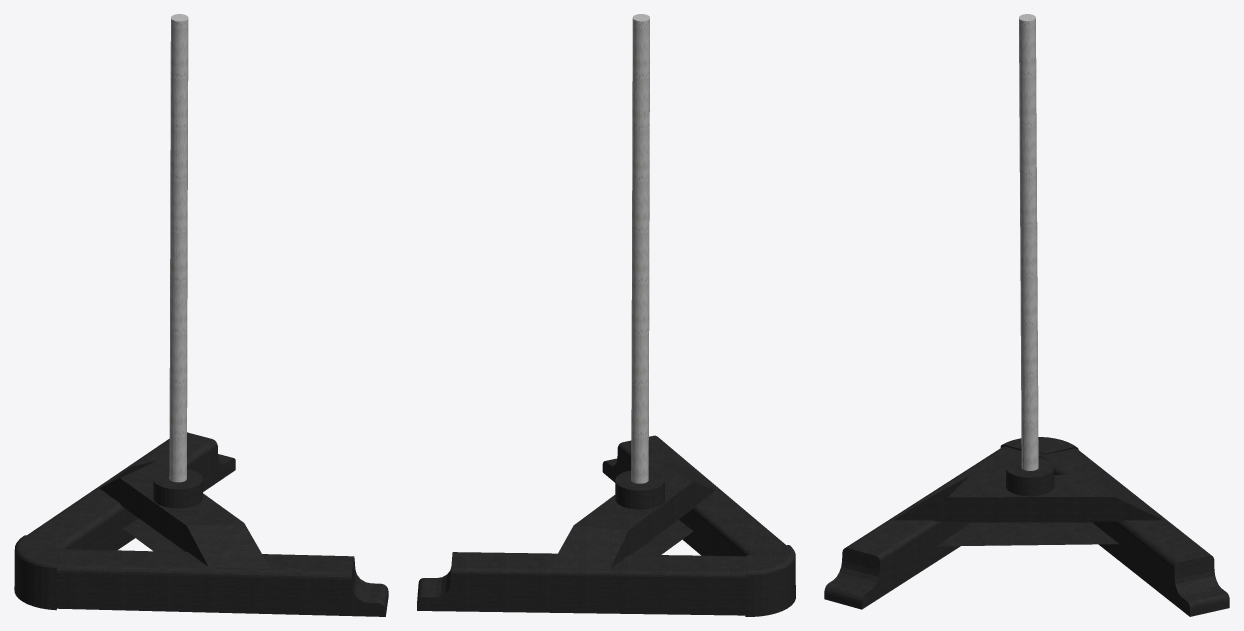
3 views of the same model, side by side, from view 1: azimuth 30°, elevation 25°; view 2: azimuth 150°, elevation 25°; view 3: azimuth 270°, elevation 25° (orthographic). The views are drawn at different scales.
Parts seen in each view (by area): view 1: 柱体.010; view 2: 柱体.010; view 3: 柱体.010.
Part boxes in pixels (x1,y1,x2,y2): 柱体.010: (14,14,388,616); 柱体.010: (417,14,795,616); 柱体.010: (824,14,1229,616).
Bounding box in the file's own units: 14.63 × 26.19 × 18.
